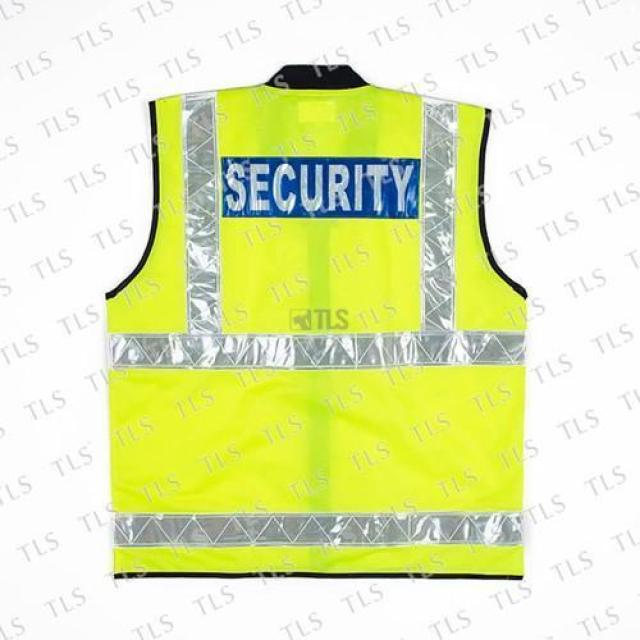Vest: (100, 59, 530, 584)
